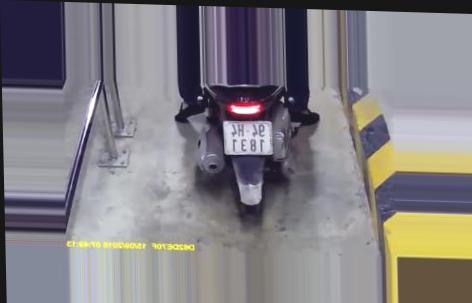License_Plate: (217, 117, 280, 162)
